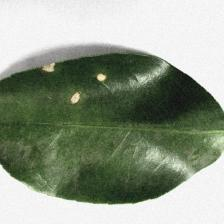canker: (36, 53, 112, 103)
